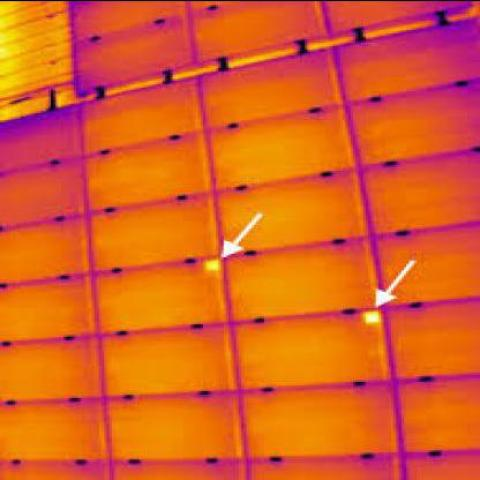fault: (363, 310, 390, 326), (200, 260, 224, 273)
